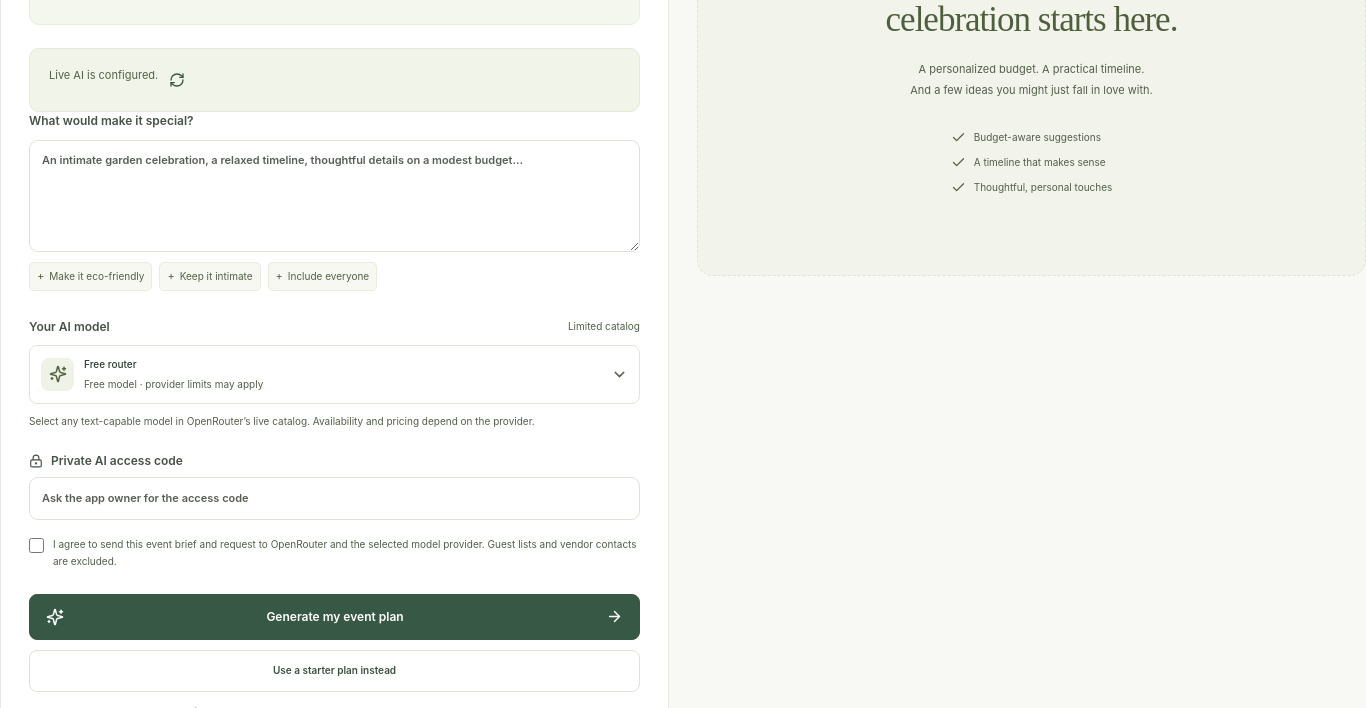
AI provider failure is shown without changing the original event
The image size is (1366, 708).
(page scrolled)
Type "test-session-code-1234" into the password field labelled "Private AI access code" at {"x": 334, "y": 498}, box [29,477,640,520]
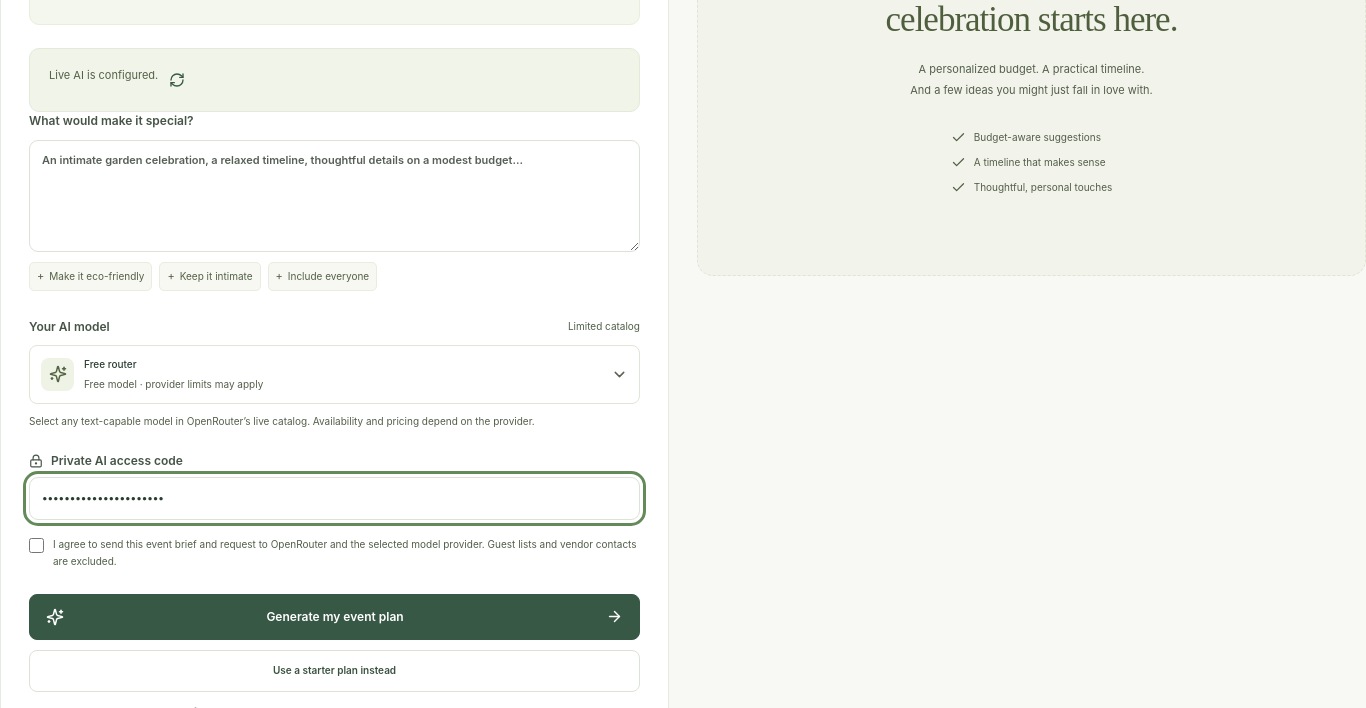
Click the checkbox labelled "I agree to send" at {"x": 36, "y": 545}, box [29,538,44,553]
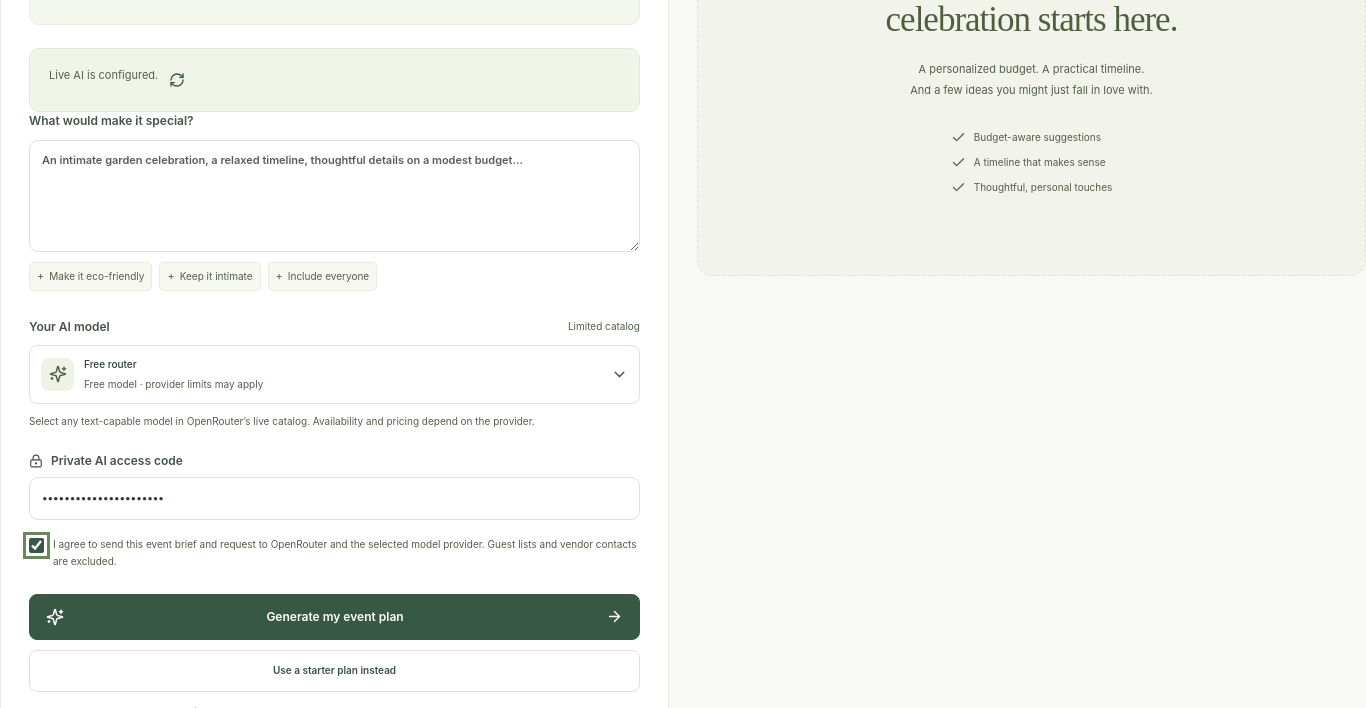
Click the button "Generate my event plan" at {"x": 334, "y": 617}, box [29,594,640,640]
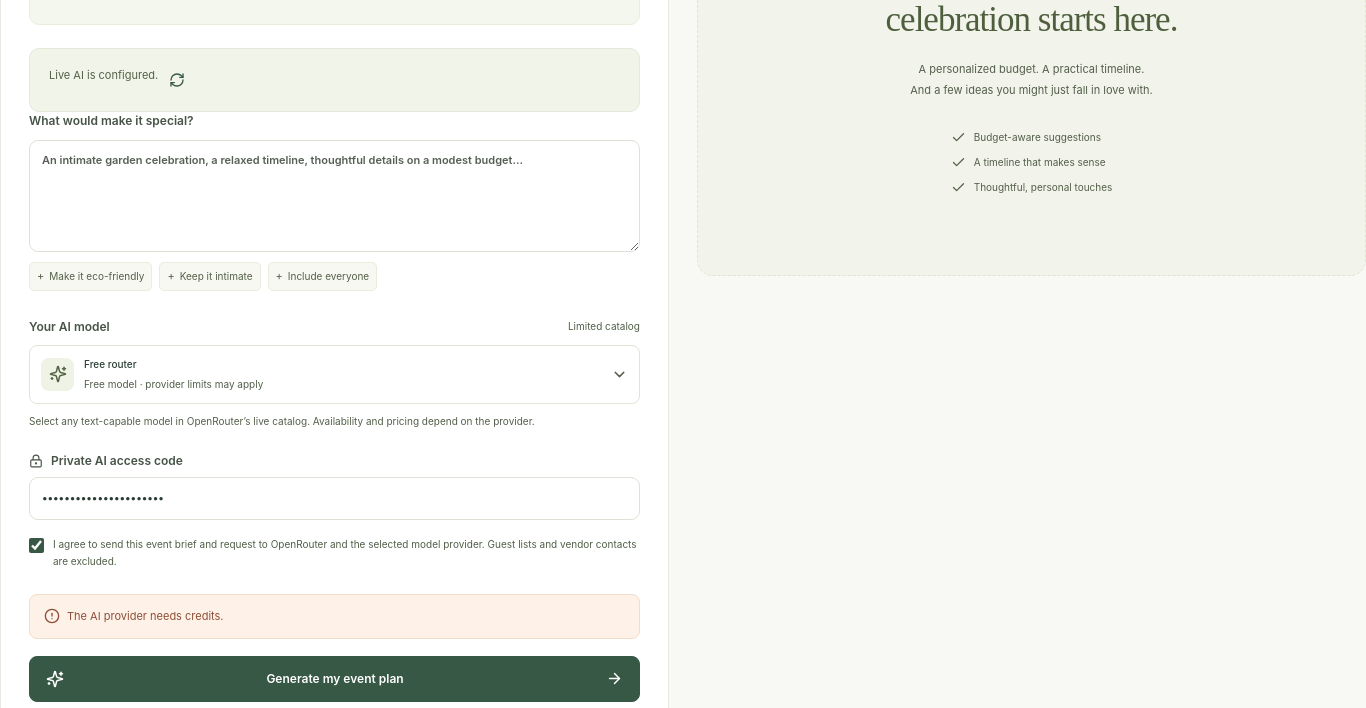
Now the message "The AI provider needs credits." is shown, box [29,594,640,639]
